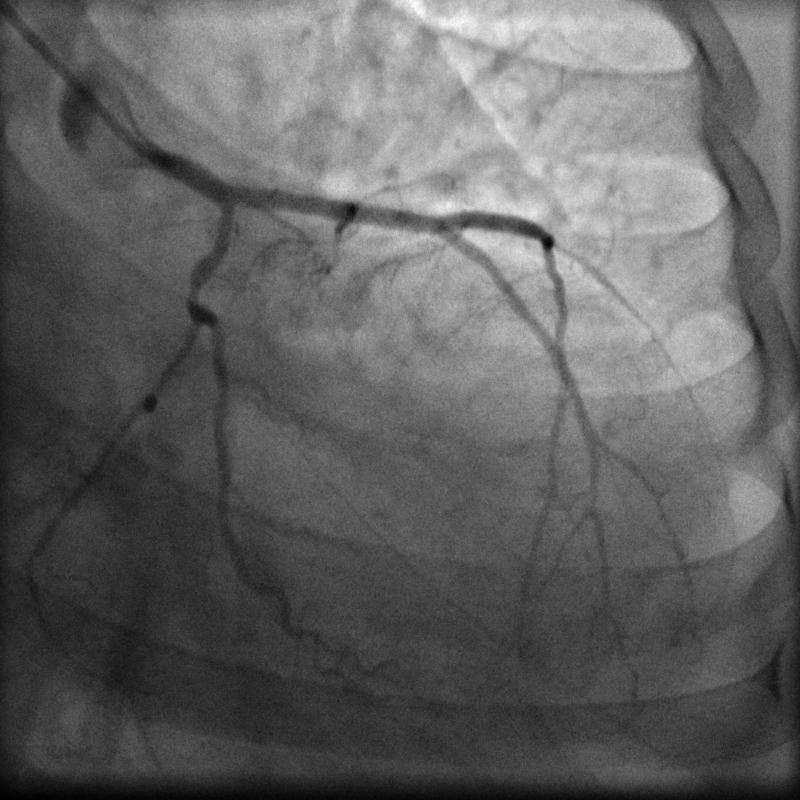Stenosis: (176, 265, 221, 311)
